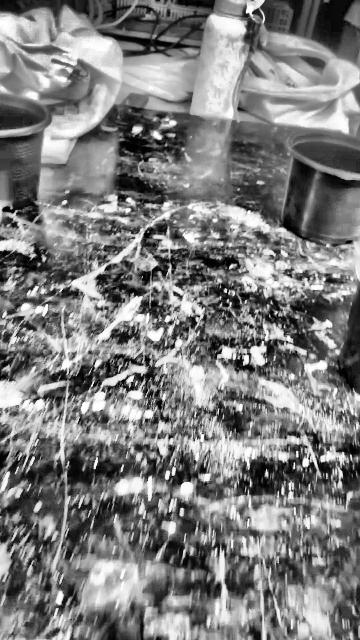pot: (281, 132, 359, 245), (0, 94, 51, 210)
